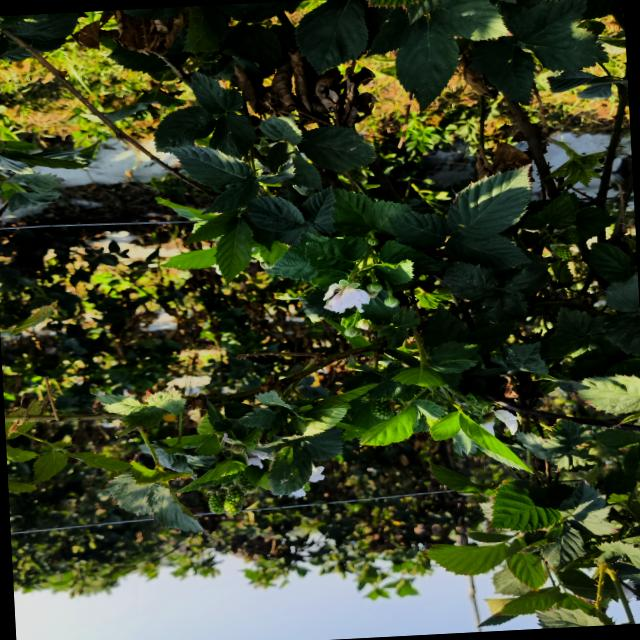boton: (384, 296, 399, 308), (344, 327, 360, 338), (367, 282, 383, 293), (367, 237, 379, 246)
flor: (323, 279, 371, 313)
